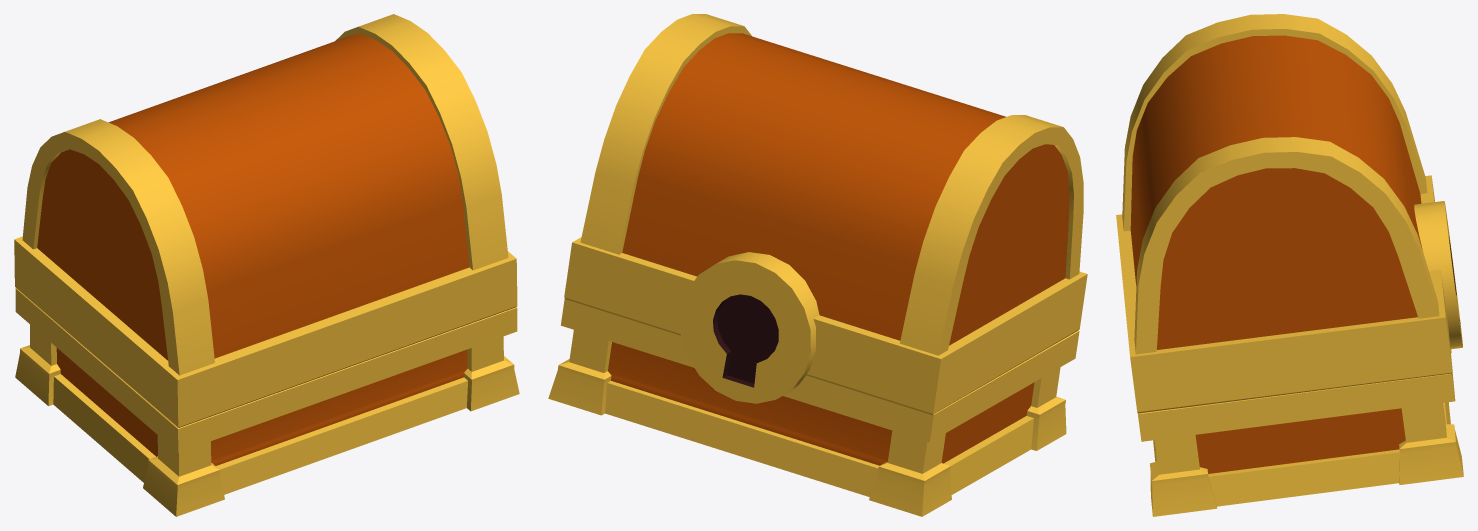
File: chest_Idle.fbx
3 views of the same model, side by side, from view 1: azimuth 30°, elevation 25°; view 2: azimuth 150°, elevation 25°; view 3: azimuth 270°, elevation 25° (orthographic). The views are drawn at different scales.
Parts seen in each view (by area): view 1: Chest_Top002, Chest_Bottom001; view 2: Chest_Top002, Chest_Bottom001, Cylinder001; view 3: Chest_Top002, Chest_Bottom001, Cylinder001.
Boxes of the visible parts, bbox=[...] form: Chest_Top002: bbox=[14, 14, 517, 427]; Chest_Bottom001: bbox=[15, 288, 519, 516]; Chest_Top002: bbox=[564, 14, 1087, 415]; Chest_Bottom001: bbox=[548, 298, 1079, 516]; Cylinder001: bbox=[680, 252, 819, 403]; Chest_Top002: bbox=[1116, 14, 1452, 413]; Chest_Bottom001: bbox=[1137, 349, 1463, 516]; Cylinder001: bbox=[1414, 201, 1462, 349].
Bounding box in the file's own units: 87.51 × 81.08 × 67.47.
